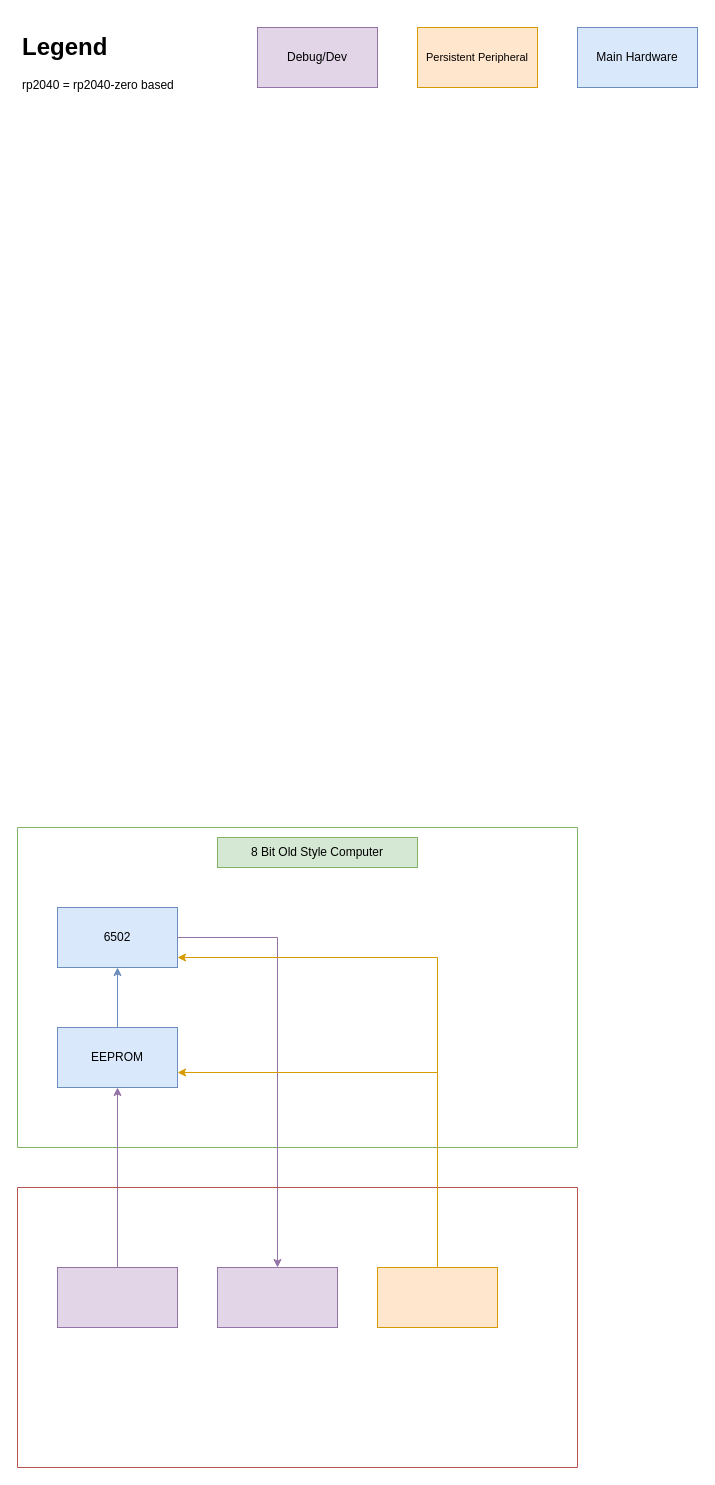
Image size: 715x1485. Some labels were removed from this diagram. The centre of each missing label's shape, as x and y in pixels:
"rp2040 Clock Generator" belongs at [437,1297].
"rp2040 EEPROM programmer" belongs at [117,1297].
"rp2040 Logic Analyzer" belongs at [277,1297].
